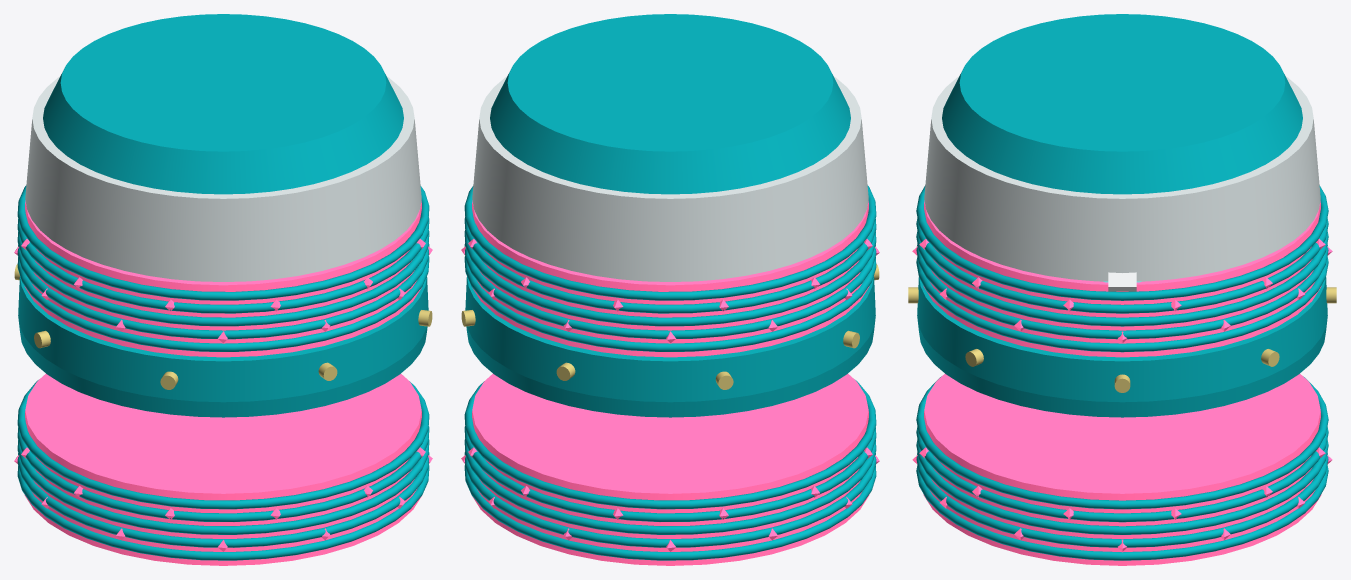
The model's file is pawclock.glb.
3 views of the same model, side by side, from view 1: azimuth 30°, elevation 25°; view 2: azimuth 150°, elevation 25°; view 3: azimuth 270°, elevation 25° (orthographic).
Parts seen in each view (by area): view 1: PawClock_4Phase_Assembly, object 40; view 2: PawClock_4Phase_Assembly, object 40; view 3: PawClock_4Phase_Assembly, object 40, object 39.
Boxes of the visible parts, x1,y1,x2,y2 form: PawClock_4Phase_Assembly: [14, 76, 432, 565]; object 40: [43, 14, 403, 194]; PawClock_4Phase_Assembly: [461, 76, 879, 565]; object 40: [490, 14, 850, 194]; PawClock_4Phase_Assembly: [908, 76, 1336, 565]; object 40: [942, 14, 1302, 194]; object 39: [1108, 272, 1136, 291].
Bounding box in the file's own units: 2.43 × 2.68 × 2.42.
